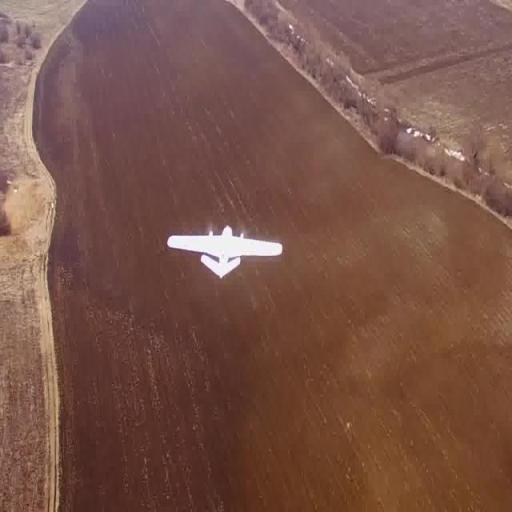uav: (162, 214, 289, 288)
